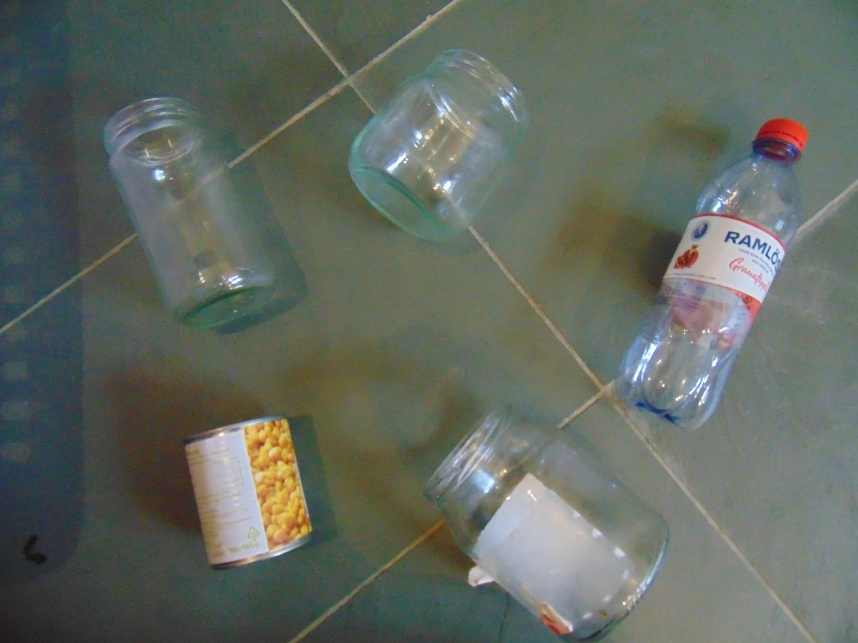glass_bottle: (424, 401, 673, 641), (101, 94, 276, 334), (346, 46, 531, 243)
metal_can: (182, 412, 314, 571)
plastic_bottle: (620, 118, 810, 432)
